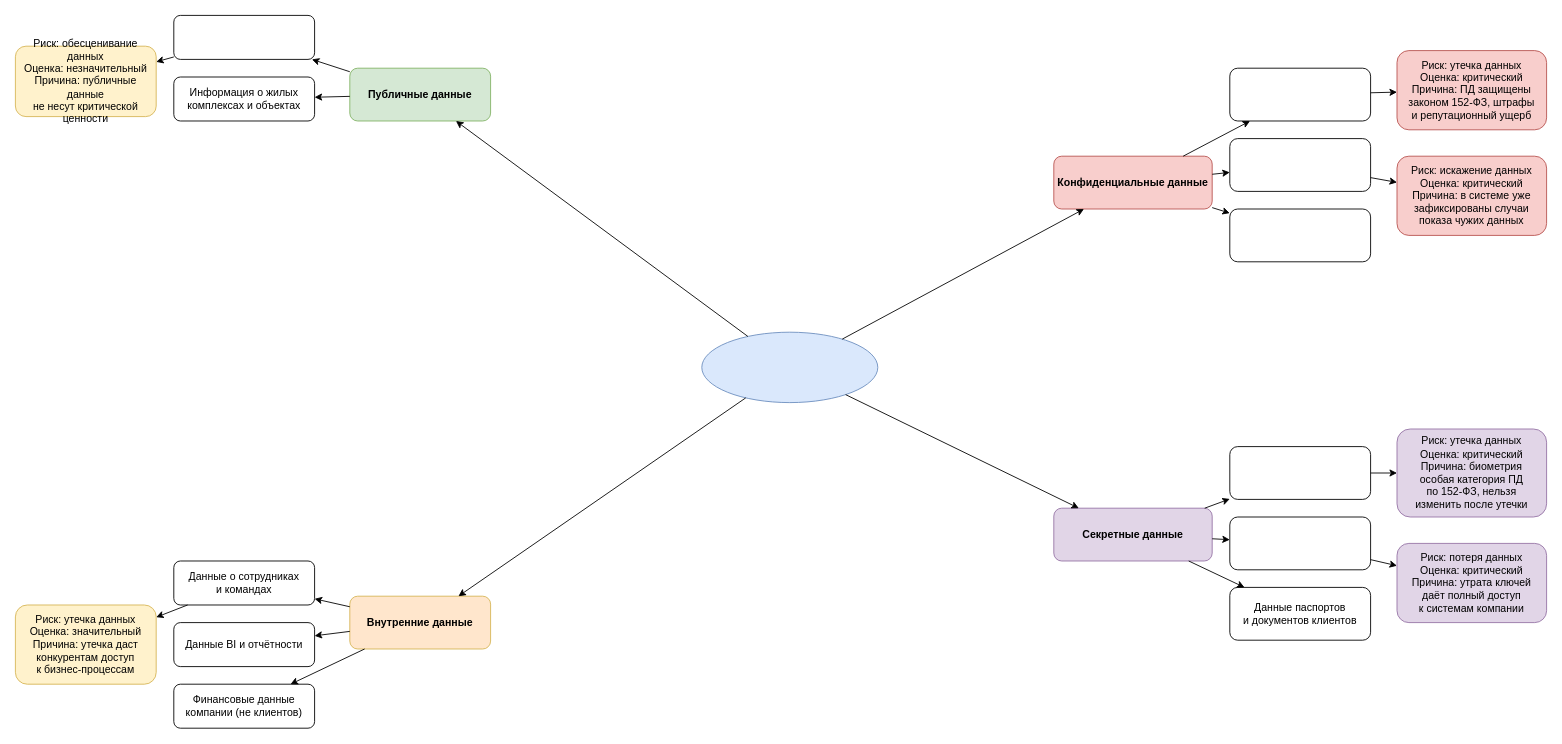
This 1562x744 diagram has some shape labels left out. Here are the shapes that lost their labels. From the top down, the centre of each, then its label:
point 244,37: Маркетинговые материалы на сайте
point 1300,94: Персональные данные клиентов (ФИО, телефон, email)
point 1300,164: Данные о сделках по недвижимости
point 1300,235: Данные собственников (ЖКУ, умный дом)
point 789,367: Безопасность данных
point 1300,472: Биометрические данные (домофон — лица)
point 1300,543: Данные доступа (ключи, токены API)
